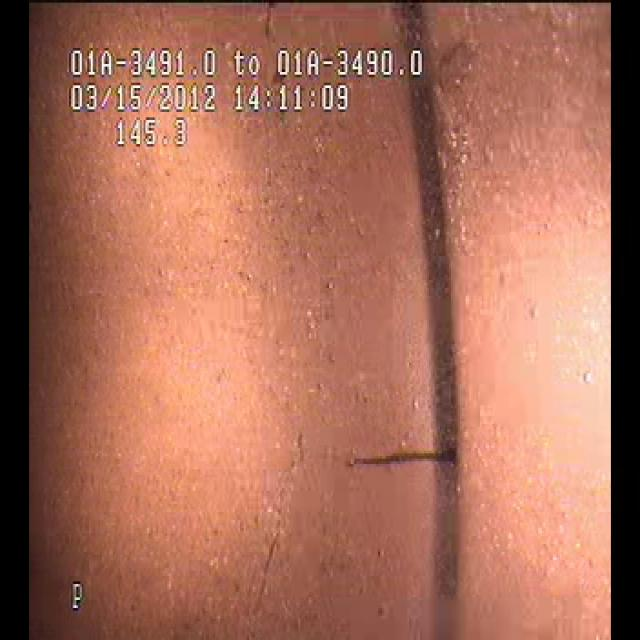Crack: (258, 381, 443, 527)
